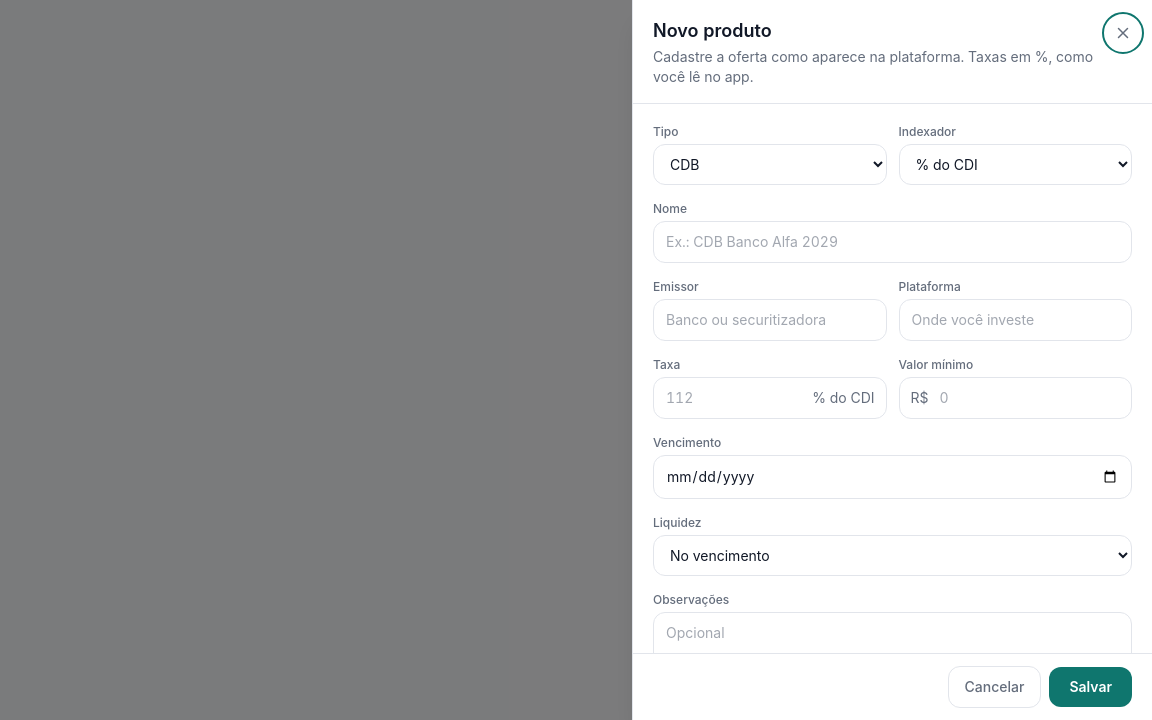
Scenario: rótulo e sufixo da taxa mudam por indexador
The image size is (1152, 720).
Expected: the text "% do CDI" is shown, [812, 388, 874, 406]
Select "IPCA +" in the dropdown labelled "Indexador" at x=1015, y=164, box [898, 144, 1132, 184]
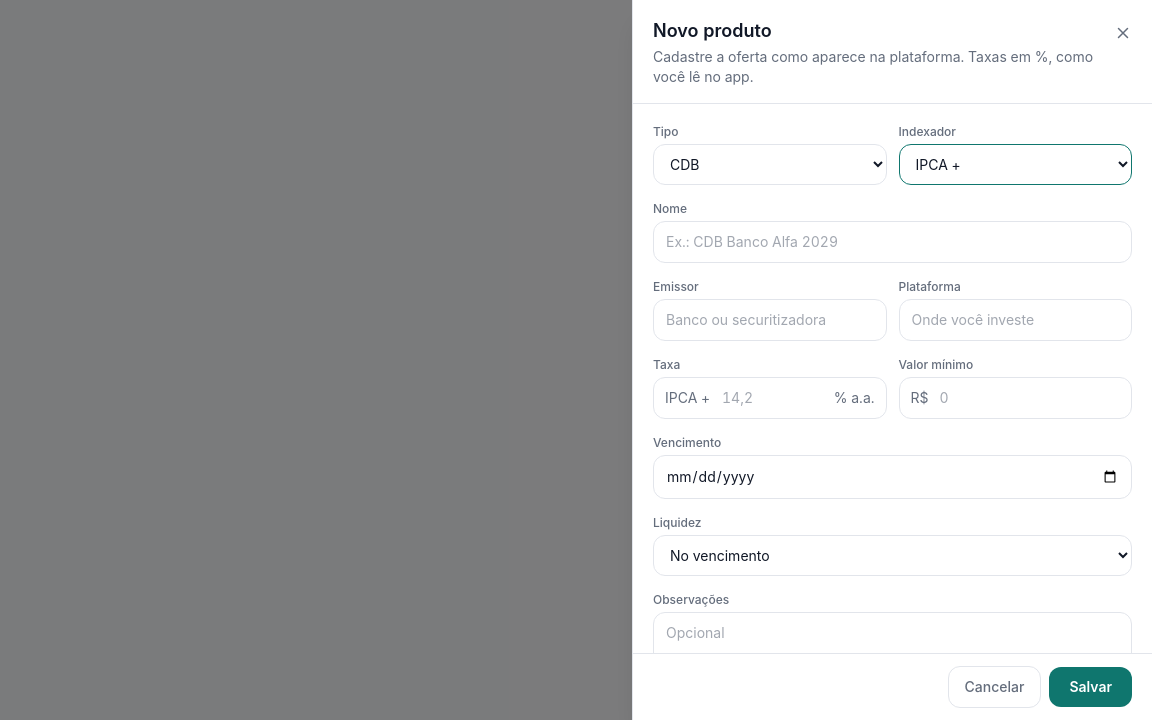
Expected: the text "IPCA +" is shown, [665, 388, 710, 406]
Expected: the text "% a.a." is shown, [834, 388, 875, 406]
